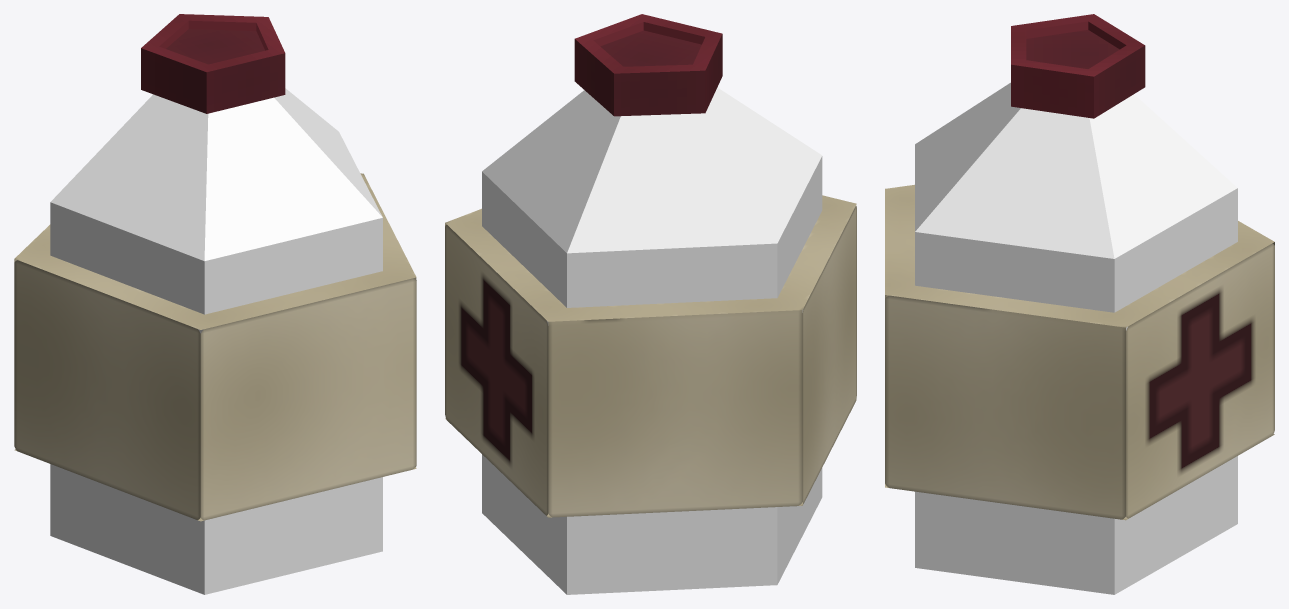
The model's file is Medkit.fbx.
3 renders of one model, left to right at view 1: azimuth 30°, elevation 25°; view 2: azimuth 150°, elevation 25°; view 3: azimuth 270°, elevation 25°, orthographic. The views are drawn at different scales.
Visible parts, largest first — view 1: BottleBody_1, BottleBody, BottleTop; view 2: BottleBody_1, BottleBody, BottleTop; view 3: BottleBody_1, BottleBody, BottleTop.
Boxes of the visible parts, <box> form: BottleBody_1: <box>14,173,416,521</box>; BottleBody: <box>50,88,382,594</box>; BottleTop: <box>141,14,285,113</box>; BottleBody_1: <box>445,195,856,517</box>; BottleBody: <box>482,87,822,594</box>; BottleTop: <box>574,14,722,116</box>; BottleBody_1: <box>885,184,1274,520</box>; BottleBody: <box>915,82,1237,594</box>; BottleTop: <box>1011,14,1145,118</box>.
Bounding box in the file's own units: 68.48 × 89.06 × 65.73.
4 materials, 4 textured.
